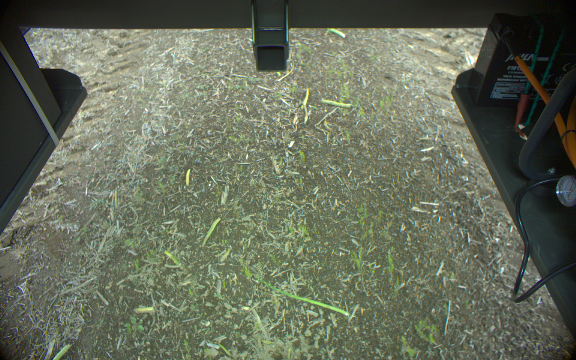aspa: (248, 274, 349, 319)
